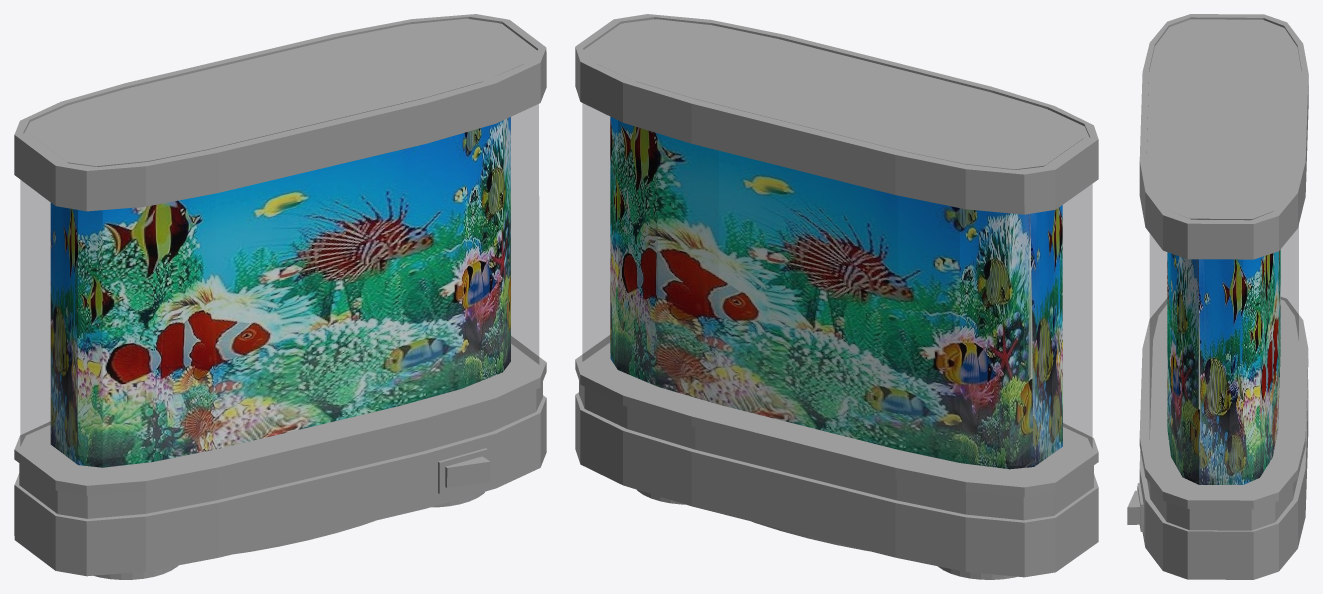
File: SeabedLamp3D_Lite.glb
3 renders of one model, left to right at view 1: azimuth 30°, elevation 25°; view 2: azimuth 150°, elevation 25°; view 3: azimuth 270°, elevation 25°, orthographic. The views are drawn at different scales.
Parts seen in each view (by area): view 1: Cube; view 2: Cube; view 3: Cube.
Boxes of the visible parts, x1,y1,x2,y2 form: Cube: (14, 14, 546, 579); Cube: (575, 14, 1098, 579); Cube: (1127, 14, 1308, 579).
Size of the model in its own units: 0.6045 by 0.5029 by 0.2201.
4 materials, 2 textured.
